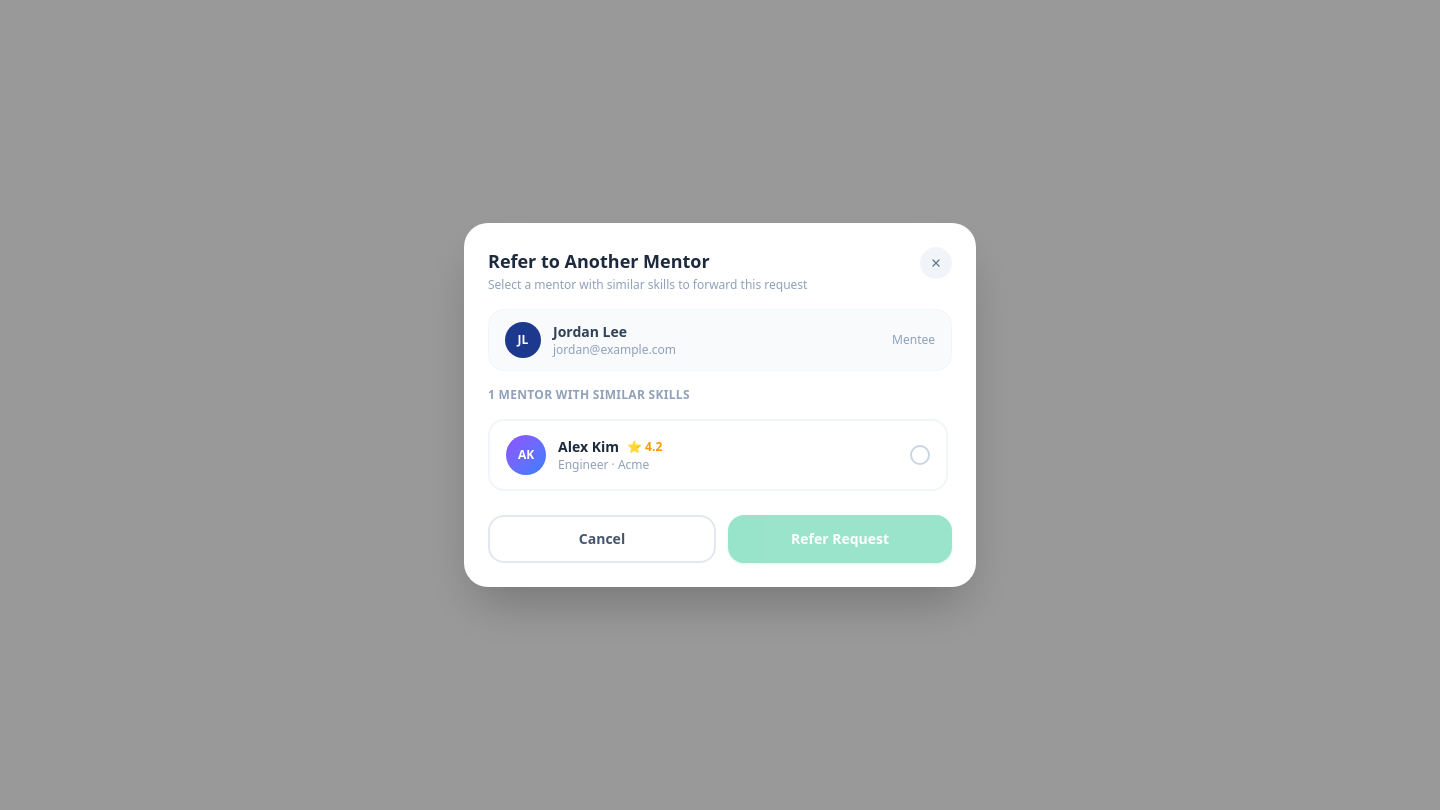
Test: ReferModal Component Suite › should show an error and stay on the mentor list when referRequest fails
Click the text "Alex Kim" at [588, 447], box [558,437,619,457]
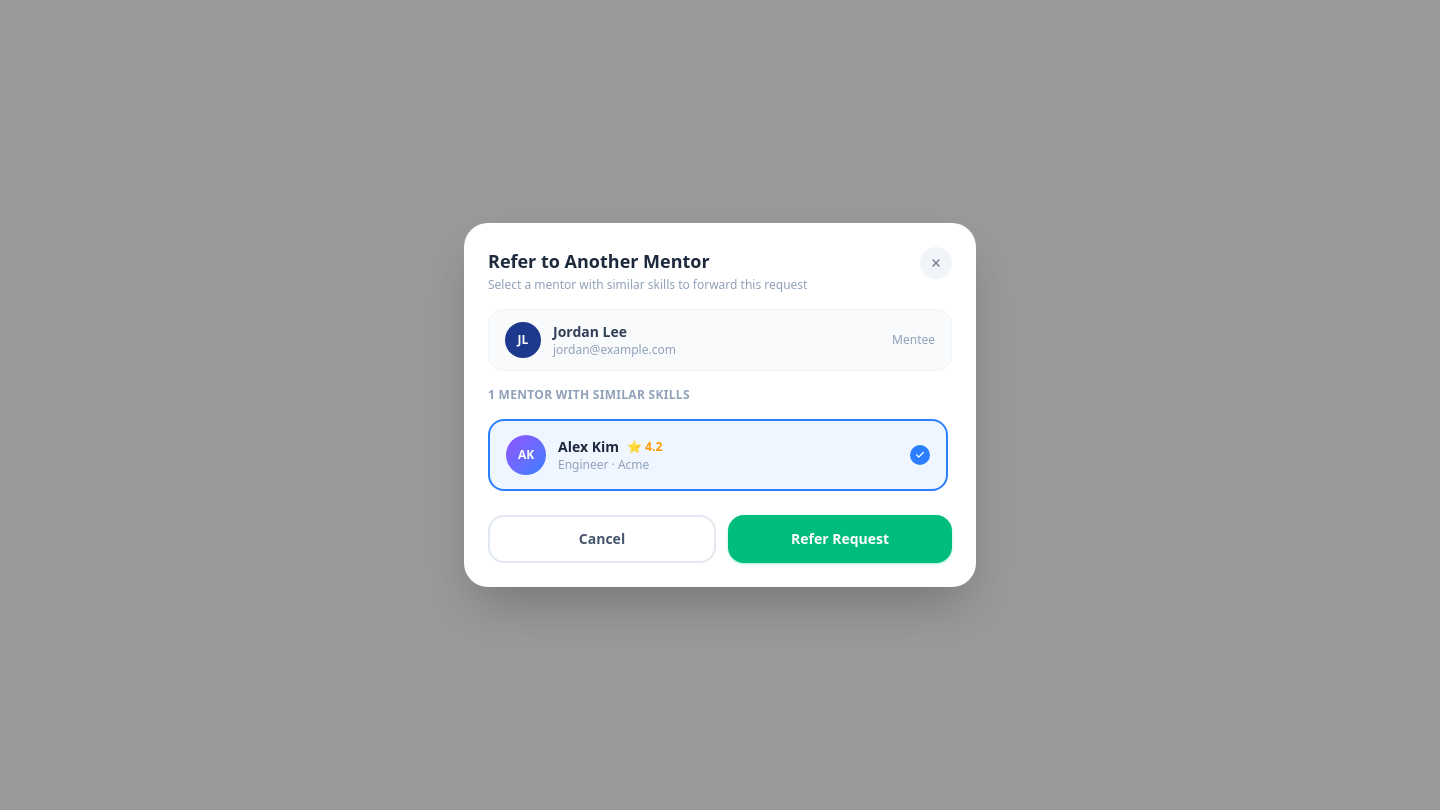
Click the button "Refer Request" at [840, 539], box [728,515,952,563]
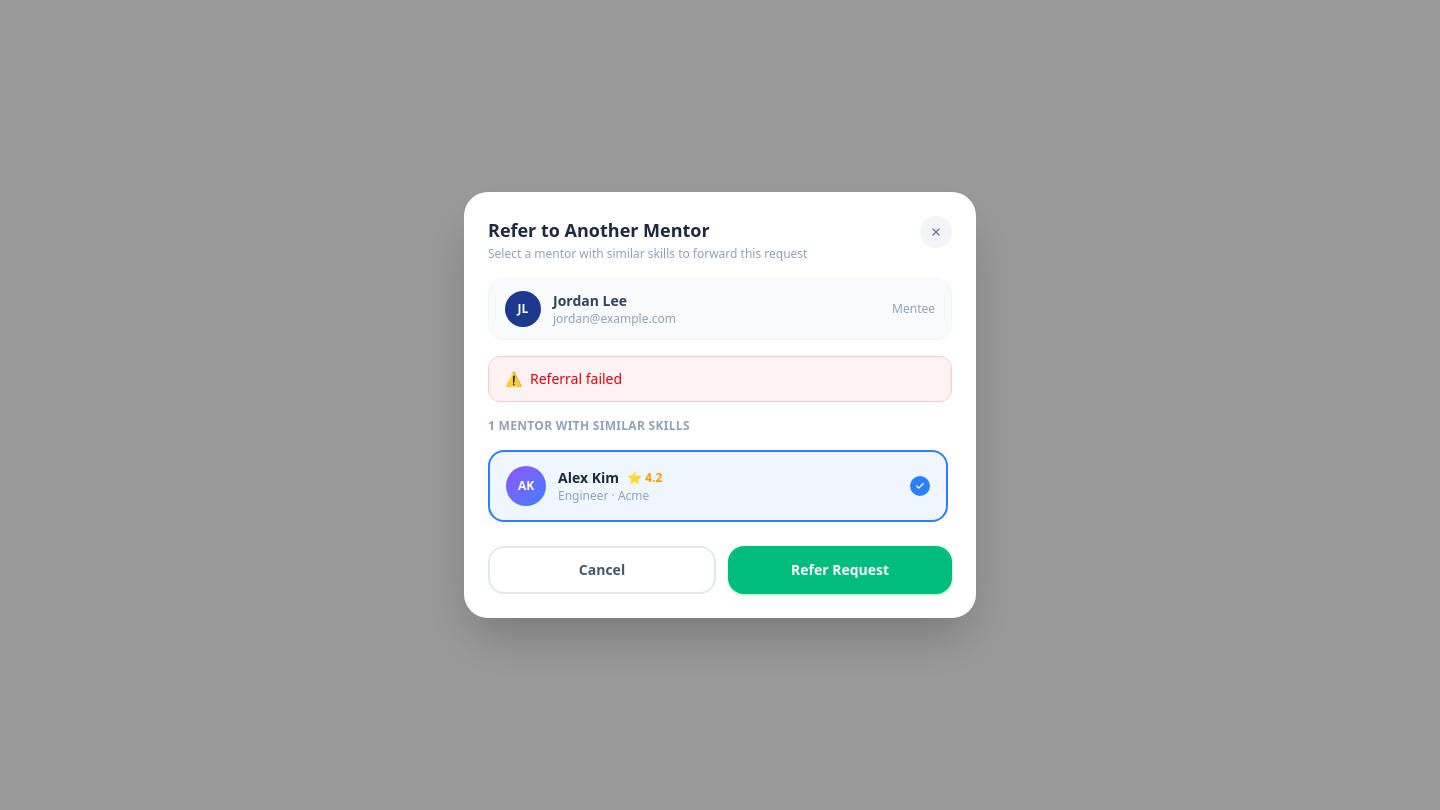
Now the text "Referral failed" is shown, box [530,369,622,388]
